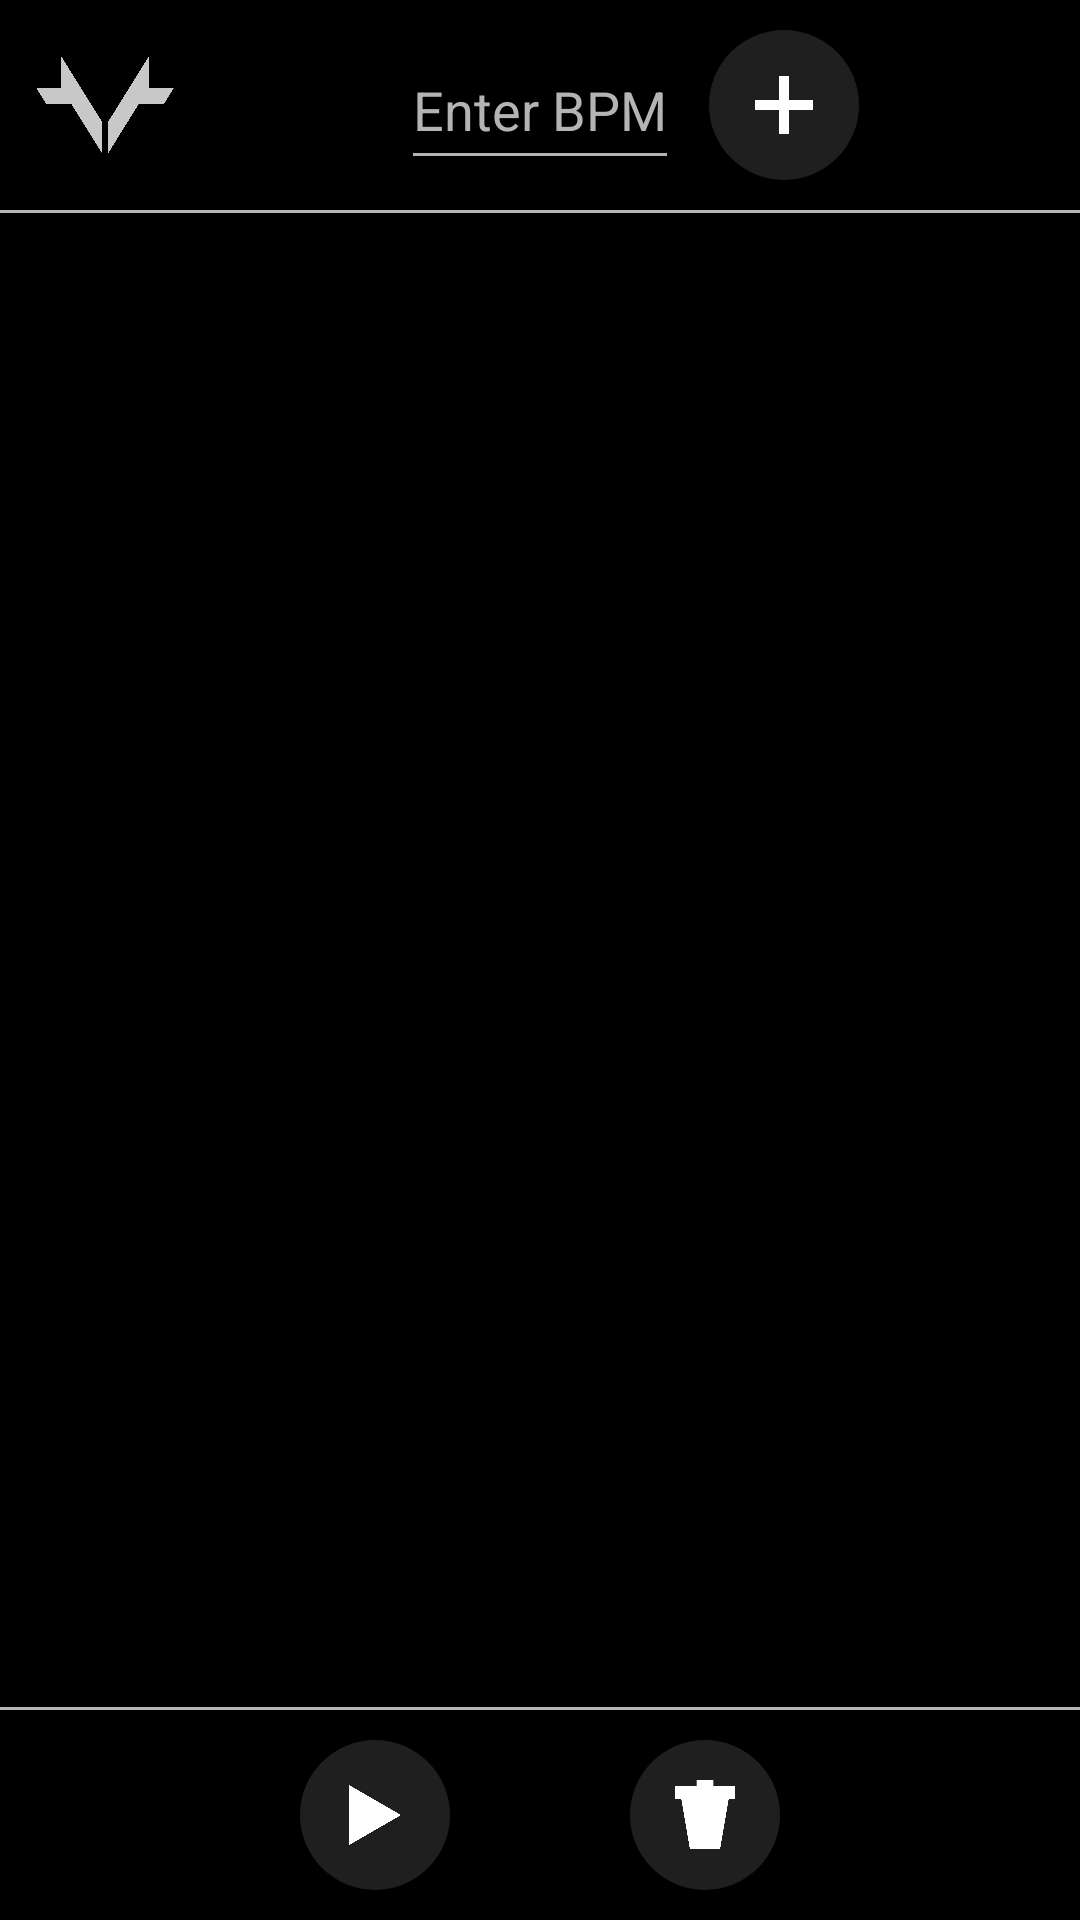

Screen size 1080*1920. Icon name, then its box in pixels as bbox=(x1, y1, x2, y2):
add: bbox=(709, 30, 859, 180)
delete: bbox=(630, 1740, 780, 1890)
play: bbox=(300, 1740, 450, 1890)
